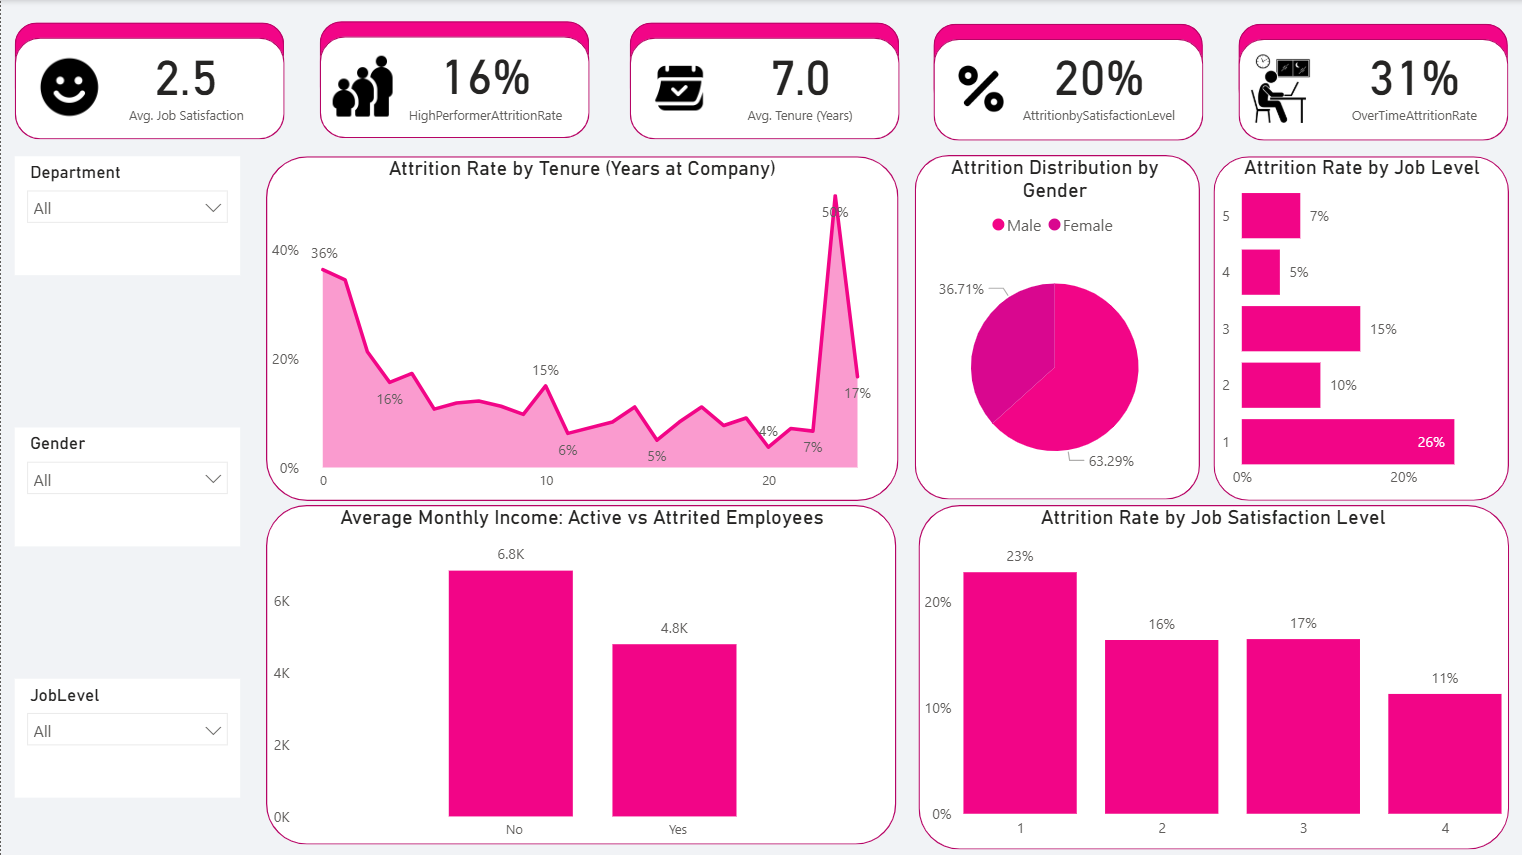

Layout of this report page (visuals, bound fields, positions):
{"tool":"powerbi","page":{"name":"Analysis 2","canvas":[1280,720],"ordinal":2},"visuals":[{"type":"group","id":"g1","title":"Group 1","box":[267.9,17.6,227.1,98.2],"z":0,"group":"g14"},{"type":"shape","box":[267.9,17.6,226.6,73.3],"z":0,"group":"g1"},{"type":"group","id":"g2","title":"Group 1","box":[528.5,18.2,227.1,98.2],"z":0,"group":"g13"},{"type":"shape","box":[528.5,18.2,226.6,73.3],"z":0,"group":"g2"},{"type":"group","id":"g3","title":"Group 1","box":[11.6,18.4,227,98.2],"z":0,"group":"g15"},{"type":"shape","box":[11.6,18.4,226.6,73.3],"z":0,"group":"g3"},{"type":"group","id":"g4","title":"Group 1","box":[785,19.6,227.1,98.2],"z":0,"group":"g12"},{"type":"shape","box":[785,19.6,226.6,73.3],"z":0,"group":"g4"},{"type":"group","id":"g5","title":"Group 1","box":[1041.3,19.6,227.1,98.2],"z":0,"group":"g11"},{"type":"shape","box":[1041.3,19.6,226.6,73.3],"z":0,"group":"g5"},{"type":"shape","box":[768.2,130.1,239.9,289.9],"z":0,"group":"g9"},{"type":"shape","box":[1019.4,130.8,248.6,289.9],"z":0,"group":"g7"},{"type":"slicer","fields":{"Values":["Dim_Department.Department"]},"box":[11.6,131.6,189.4,99.8],"z":0},{"type":"shape","box":[222.7,131.6,532,290],"z":0,"group":"g10"},{"type":"shape","box":[772.2,425.1,496.7,289.9],"z":0,"group":"g6"},{"type":"shape","box":[222.7,425.4,530.1,285.6],"z":0,"group":"g8"},{"type":"card","fields":{"Values":["Dim_Measures.AvgJobSatisfaction"]},"box":[73.9,17.6,165,100],"z":1000,"group":"g15"},{"type":"card","fields":{"Values":["Dim_Measures.AvgTenureYears"]},"box":[589.9,17.6,165,100],"z":1000,"group":"g13"},{"type":"card","fields":{"Values":["Dim_Measures.AttritionbySatisfactionLevel"]},"box":[835.8,17.6,175.5,100],"z":1000,"group":"g12"},{"type":"card","fields":{"Values":["Dim_Measures.OverTimeAttritionRate"]},"box":[1109.6,17.6,159.4,100],"z":1000,"group":"g11"},{"type":"card","fields":{"Values":["Dim_Measures.HighPerformerAttritoinRate"]},"box":[316,17.7,182.5,99.3],"z":1000,"group":"g14"},{"type":"shape","box":[268,30,226.9,85.7],"z":1000,"group":"g1"},{"type":"shape","box":[528.6,30.6,226.9,85.7],"z":1000,"group":"g2"},{"type":"shape","box":[11.7,30.8,226.9,85.7],"z":1000,"group":"g3"},{"type":"shape","box":[785.1,32,226.9,85.7],"z":1000,"group":"g4"},{"type":"shape","box":[1041.4,32,226.9,85.7],"z":1000,"group":"g5"},{"type":"pieChart","title":"Attrition Distribution by Gender","fields":{"Category":["Dim_Employee.Gender"],"Y":["Dim_Measures.TotalAttritions"]},"box":[766.3,130,240,289.2],"z":1000,"group":"g9"},{"type":"clusteredBarChart","title":"Attrition Rate by Job Level","fields":{"Category":["Dim_Employee.JobLevel"],"Y":["Dim_Measures.AttritionRate"]},"box":[1019.6,130.1,249.8,289.4],"z":1000,"group":"g7"},{"type":"lineChart","title":"Attrition Rate by Tenure (Years at Company)","fields":{"Category":["Dim_Employee.YearsAtCompany"],"Y":["Dim_Measures.AttritionRate"]},"box":[223,132,531.5,289.9],"z":1000,"group":"g10"},{"type":"slicer","fields":{"Values":["Dim_Employee.Gender"]},"box":[11.6,360.1,189.4,99.8],"z":1000},{"type":"clusteredColumnChart","title":"Average Monthly Income: Active vs Attrited Employees","fields":{"Y":["Dim_Measures.AvgMonthlyIncome"],"Category":["Fact_Employee.Attrition"]},"box":[223.3,425.1,529.6,290.1],"z":1000,"group":"g8"},{"type":"clusteredColumnChart","title":"Attrition Rate by Job Satisfaction Level","fields":{"Category":["Dim_Satisfaction.JobSatisfaction"],"Y":["Dim_Measures.AttritionRate"]},"box":[772.2,425.1,495.7,289.9],"z":1000,"group":"g6"},{"type":"image","box":[1041.1,40.8,70.6,67.1],"z":2000,"group":"g11"},{"type":"image","box":[26.4,41.9,62.2,62.2],"z":2000,"group":"g15"},{"type":"image","box":[272.7,41.9,61.5,60.8],"z":2000,"group":"g14"},{"type":"image","box":[539,43,59.4,60],"z":2000,"group":"g13"},{"type":"image","box":[784.8,49.2,79.7,50.3],"z":2000,"group":"g12"},{"type":"slicer","fields":{"Values":["Dim_Employee.JobLevel"]},"box":[11.6,571.2,189.4,99.8],"z":2000},{"type":"group","id":"g6","title":"Att by Job Sat","box":[772.2,425.1,496,290.7],"z":3000},{"type":"group","id":"g7","title":"Att by Job Level","box":[1019.4,130.1,250.2,290.7],"z":4000},{"type":"group","id":"g8","title":"Att by Inc","box":[222.7,425.1,530.7,290.7],"z":5000},{"type":"group","id":"g9","title":"Att by Gen","box":[766.3,130,241.7,290],"z":6000},{"type":"group","id":"g10","title":"Att by Years","box":[222.7,131.6,532.1,290.7],"z":7000},{"type":"group","id":"g11","title":"Card 5","box":[1041.1,17.6,227,99.8],"z":8000},{"type":"group","id":"g12","title":"Card 4","box":[784.8,17.6,227,99.8],"z":9000},{"type":"group","id":"g13","title":"Card 3","box":[528.5,17.6,227,99.8],"z":10000},{"type":"group","id":"g14","title":"Card 2","box":[267.9,17.6,231.4,99.8],"z":11000},{"type":"group","id":"g15","title":"Card 1","box":[11.6,17.6,227,99.8],"z":12000}]}

Visuals, with their boxes in screenshot pixels (x1, y1, x2, y2), scaled from the page's 1280x720 canvas onto the 1522x855 screenshot:
"Group 1" group: x1=319, y1=21, x2=589, y2=138
shape: x1=319, y1=21, x2=588, y2=108
"Group 1" group: x1=628, y1=22, x2=898, y2=138
shape: x1=628, y1=22, x2=898, y2=109
"Group 1" group: x1=14, y1=22, x2=284, y2=138
shape: x1=14, y1=22, x2=283, y2=109
"Group 1" group: x1=933, y1=23, x2=1203, y2=140
shape: x1=933, y1=23, x2=1203, y2=110
"Group 1" group: x1=1238, y1=23, x2=1508, y2=140
shape: x1=1238, y1=23, x2=1508, y2=110
shape: x1=913, y1=154, x2=1199, y2=499
shape: x1=1212, y1=155, x2=1508, y2=500
slicer - Dim_Department.Department: x1=14, y1=156, x2=239, y2=275
shape: x1=265, y1=156, x2=897, y2=501
shape: x1=918, y1=505, x2=1509, y2=849
shape: x1=265, y1=505, x2=895, y2=844
card - Dim_Measures.AvgJobSatisfaction: x1=88, y1=21, x2=284, y2=140
card - Dim_Measures.AvgTenureYears: x1=701, y1=21, x2=898, y2=140
card - Dim_Measures.AttritionbySatisfactionLevel: x1=994, y1=21, x2=1202, y2=140
card - Dim_Measures.OverTimeAttritionRate: x1=1319, y1=21, x2=1509, y2=140
card - Dim_Measures.HighPerformerAttritoinRate: x1=376, y1=21, x2=593, y2=139
shape: x1=319, y1=36, x2=588, y2=137
shape: x1=629, y1=36, x2=898, y2=138
shape: x1=14, y1=37, x2=284, y2=138
shape: x1=934, y1=38, x2=1203, y2=140
shape: x1=1238, y1=38, x2=1508, y2=140
"Attrition Distribution by Gender" pieChart: x1=911, y1=154, x2=1197, y2=498
"Attrition Rate by Job Level" clusteredBarChart: x1=1212, y1=154, x2=1509, y2=498
"Attrition Rate by Tenure (Years at Company)" lineChart: x1=265, y1=157, x2=897, y2=501
slicer - Dim_Employee.Gender: x1=14, y1=428, x2=239, y2=546
"Average Monthly Income: Active vs Attrited Employees" clusteredColumnChart: x1=266, y1=505, x2=895, y2=849
"Attrition Rate by Job Satisfaction Level" clusteredColumnChart: x1=918, y1=505, x2=1508, y2=849
image: x1=1238, y1=48, x2=1322, y2=128
image: x1=31, y1=50, x2=105, y2=124
image: x1=324, y1=50, x2=397, y2=122
image: x1=641, y1=51, x2=712, y2=122
image: x1=933, y1=58, x2=1028, y2=118
slicer - Dim_Employee.JobLevel: x1=14, y1=678, x2=239, y2=797
"Att by Job Sat" group: x1=918, y1=505, x2=1508, y2=850
"Att by Job Level" group: x1=1212, y1=154, x2=1510, y2=500
"Att by Inc" group: x1=265, y1=505, x2=896, y2=850
"Att by Gen" group: x1=911, y1=154, x2=1199, y2=499
"Att by Years" group: x1=265, y1=156, x2=898, y2=501
"Card 5" group: x1=1238, y1=21, x2=1508, y2=139
"Card 4" group: x1=933, y1=21, x2=1203, y2=139
"Card 3" group: x1=628, y1=21, x2=898, y2=139
"Card 2" group: x1=319, y1=21, x2=594, y2=139
"Card 1" group: x1=14, y1=21, x2=284, y2=139
